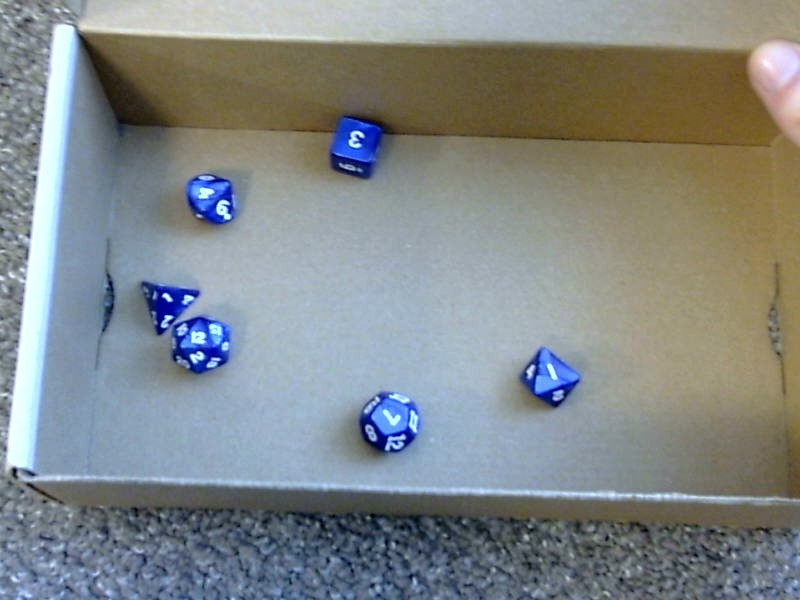d10 4: (184, 170, 238, 224)
d12 7: (355, 384, 421, 455)
d20 12: (170, 316, 233, 375)
d4 1: (135, 282, 202, 337)
d6 3: (325, 113, 383, 181)
d8 1: (522, 341, 579, 411)
